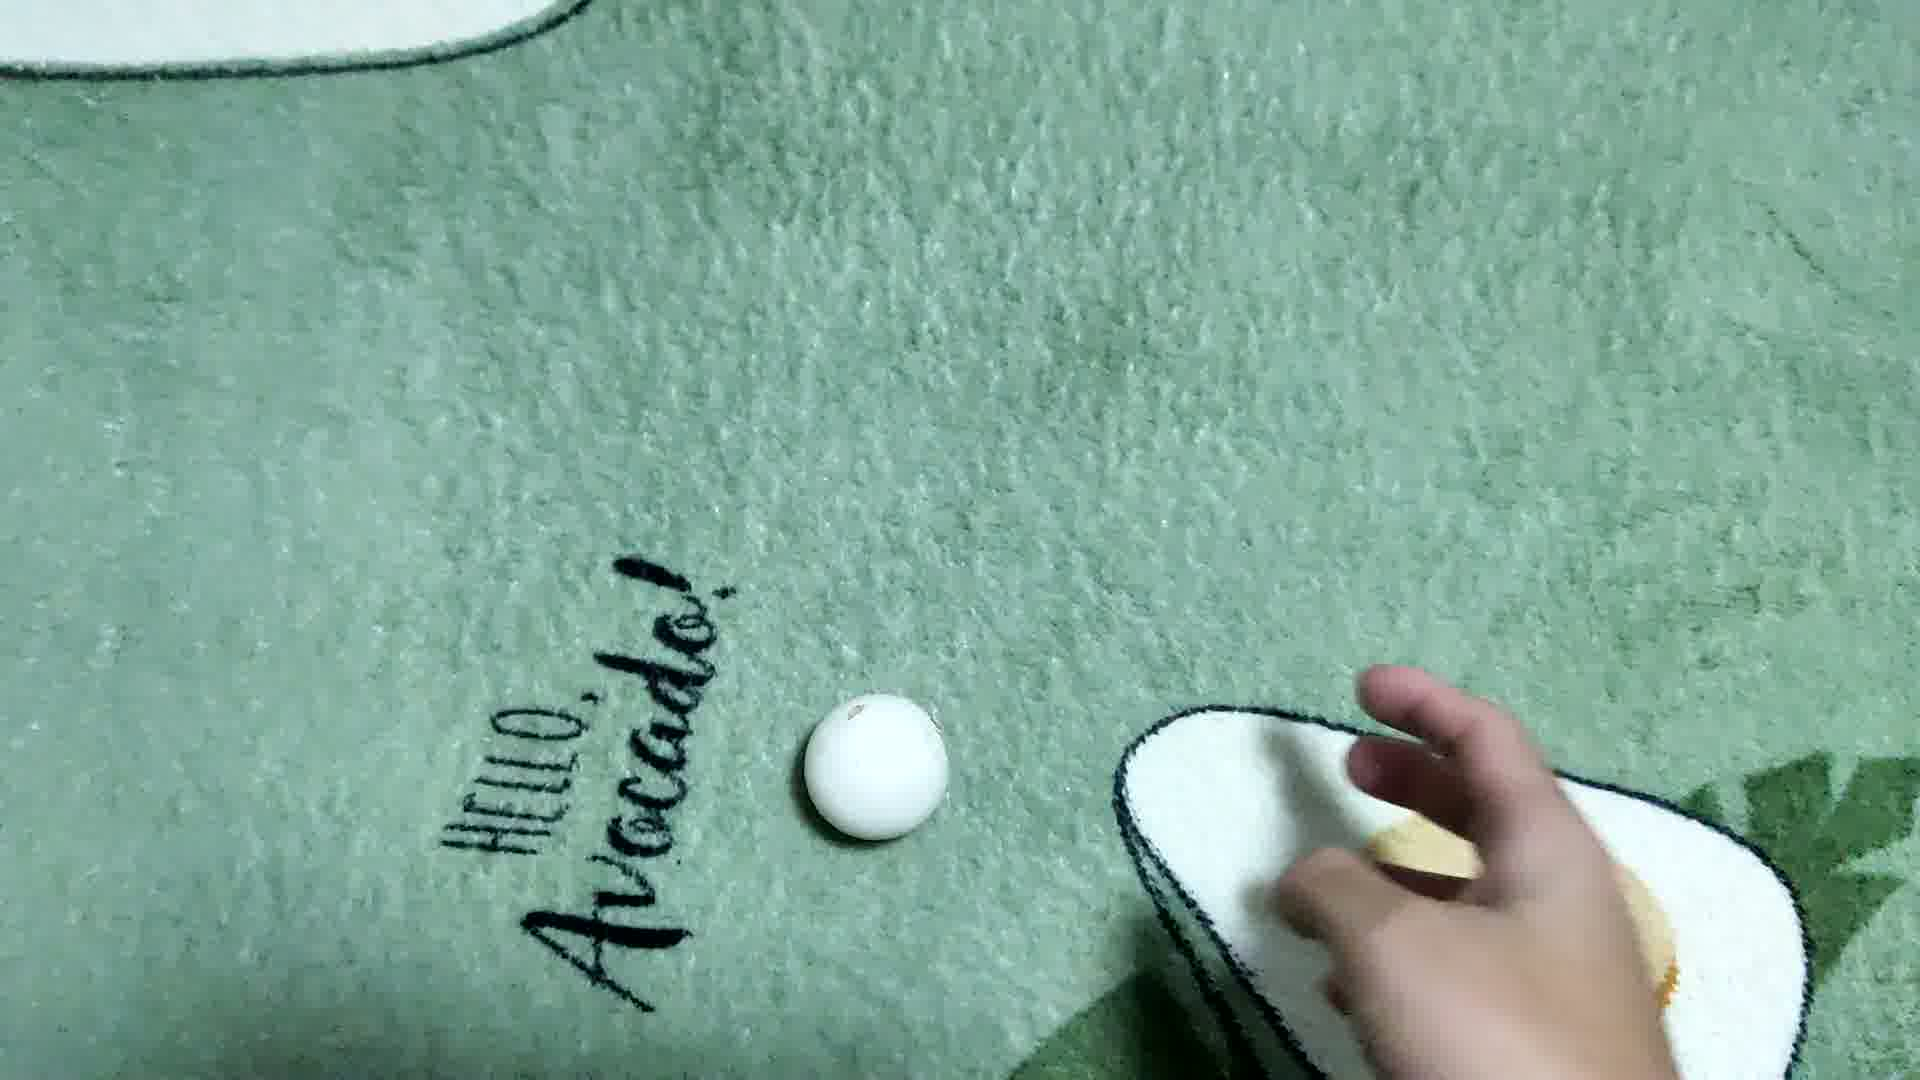Ball: (796, 692, 951, 845)
